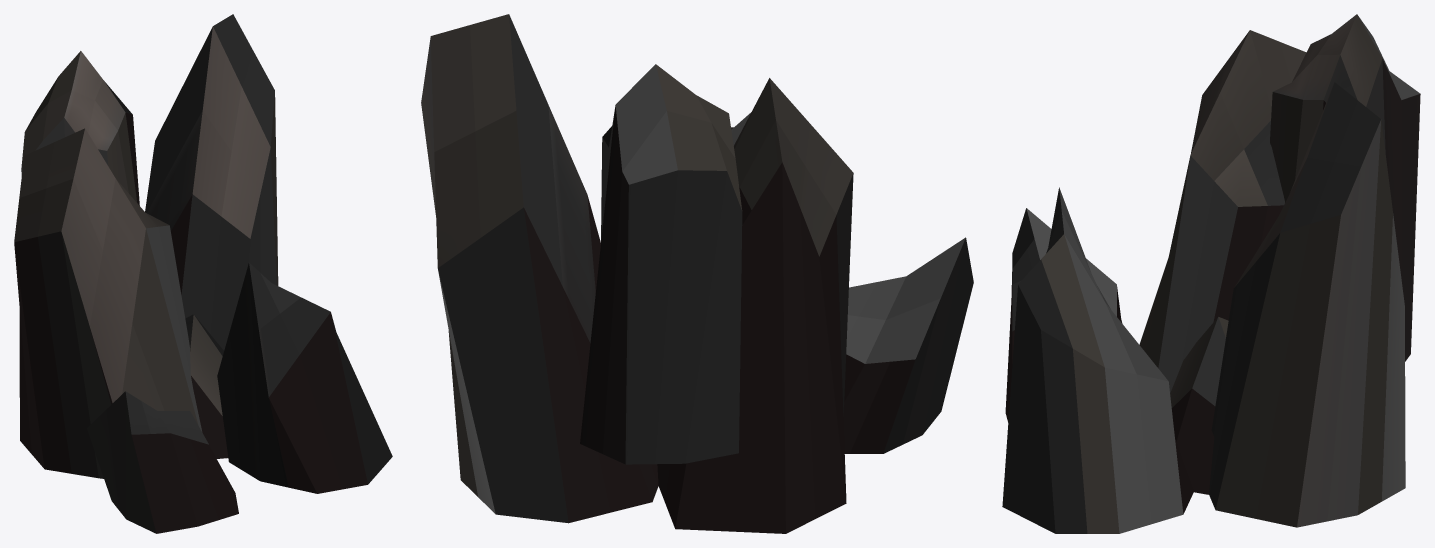
Rendered from rock_outcropping_163x00.gltf.
3 views of the same model, side by side, from view 1: azimuth 30°, elevation 25°; view 2: azimuth 150°, elevation 25°; view 3: azimuth 270°, elevation 25° (orthographic). The views are drawn at different scales.
Visible parts, largest first — view 1: RockOutCropping; view 2: RockOutCropping; view 3: RockOutCropping.
Part boxes in pixels (x1,y1,x2,y2): RockOutCropping: [14, 14, 392, 533]; RockOutCropping: [421, 14, 973, 533]; RockOutCropping: [1002, 14, 1420, 533].
Bounding box in the file's own units: 3.65 × 4.41 × 3.98.
Materials: 1 (1 with a texture image).
